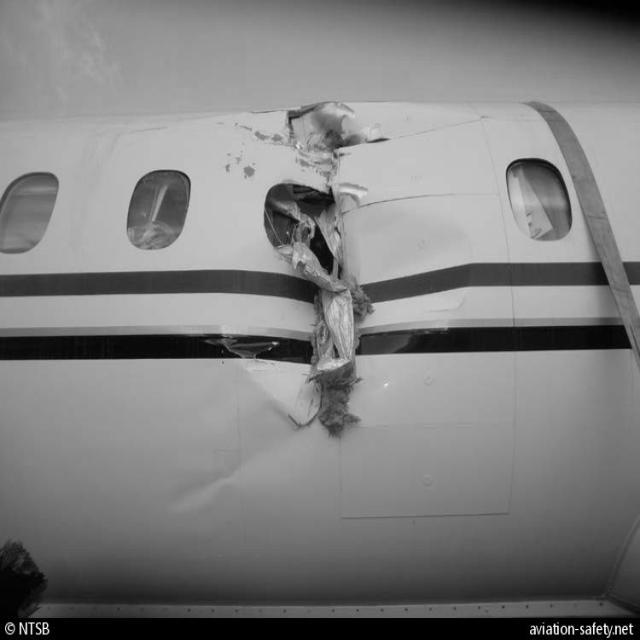crack: (269, 99, 387, 447)
dent: (340, 207, 481, 369), (157, 436, 273, 519)
